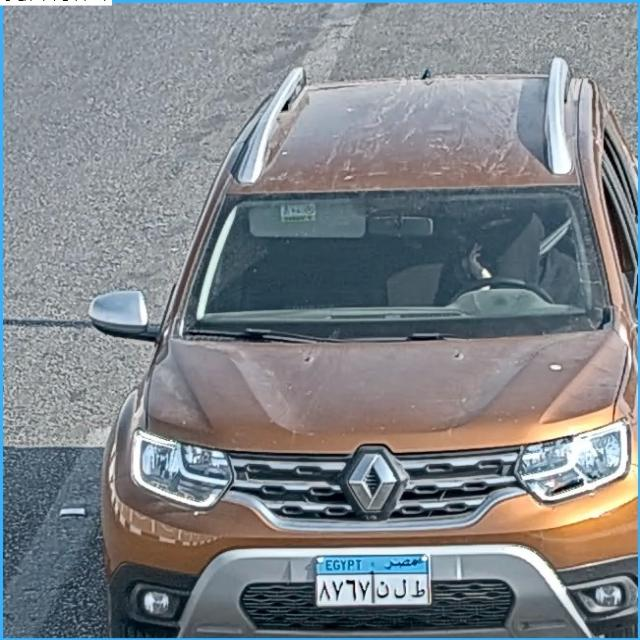windshield: (184, 182, 598, 326)
